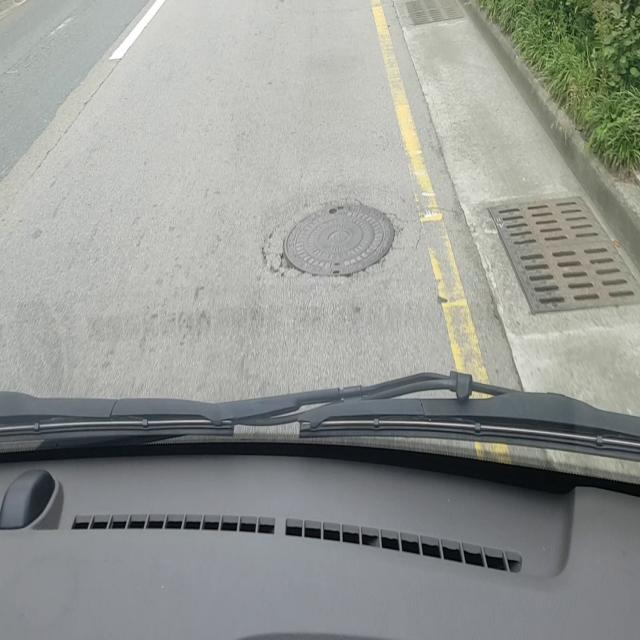Pothole: (256, 196, 400, 282)
